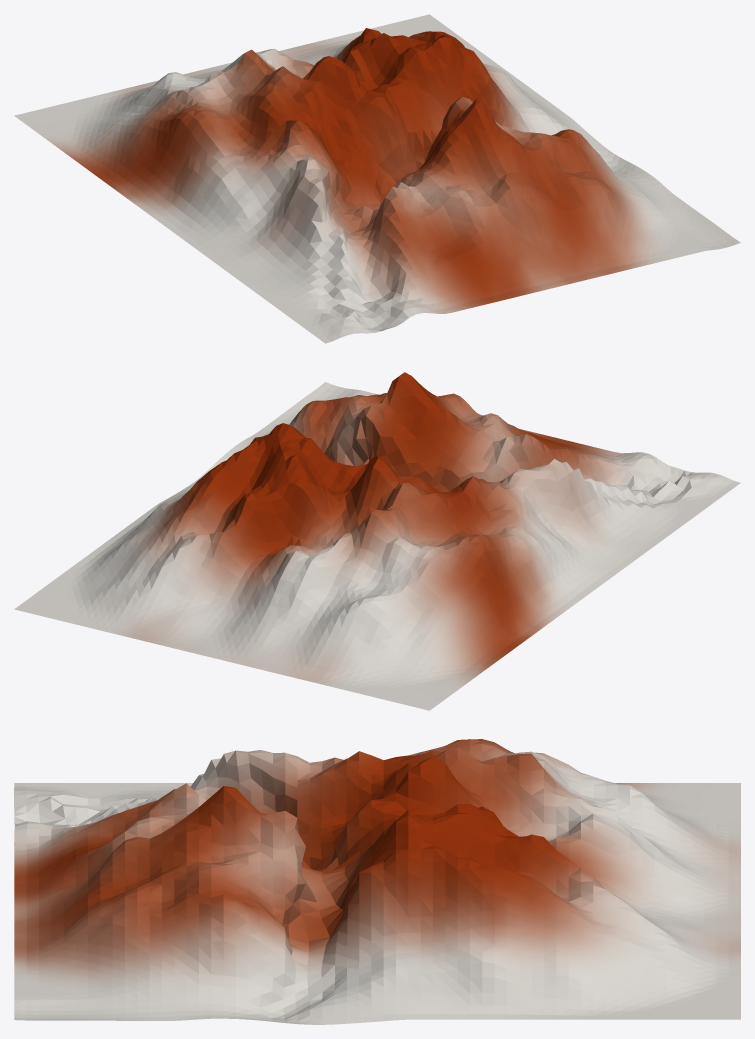
The model's file is trimountblendRED.dae.
3 views of the same model, one above another, from view 1: azimuth 30°, elevation 25°; view 2: azimuth 150°, elevation 25°; view 3: azimuth 270°, elevation 25° (orthographic). The views are drawn at different scales.
Visible parts, largest first — view 1: node; view 2: node; view 3: node.
Part boxes in pixels (x1,y1,x2,y2): node: [14, 14, 740, 343]; node: [14, 372, 740, 710]; node: [14, 739, 740, 1024].
Bounding box in the file's own units: 6.47 × 1.88 × 8.39.
